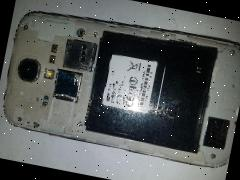electronic: (0, 9, 240, 179)
